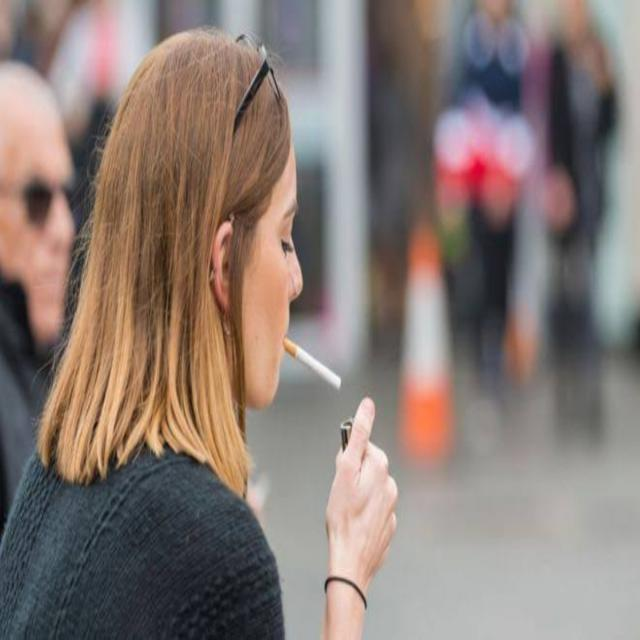smoking: (259, 241, 356, 422)
